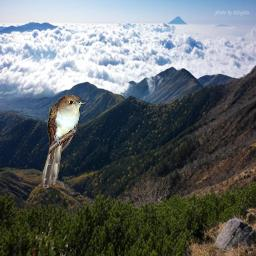Cuckoo: (41, 94, 86, 188)
